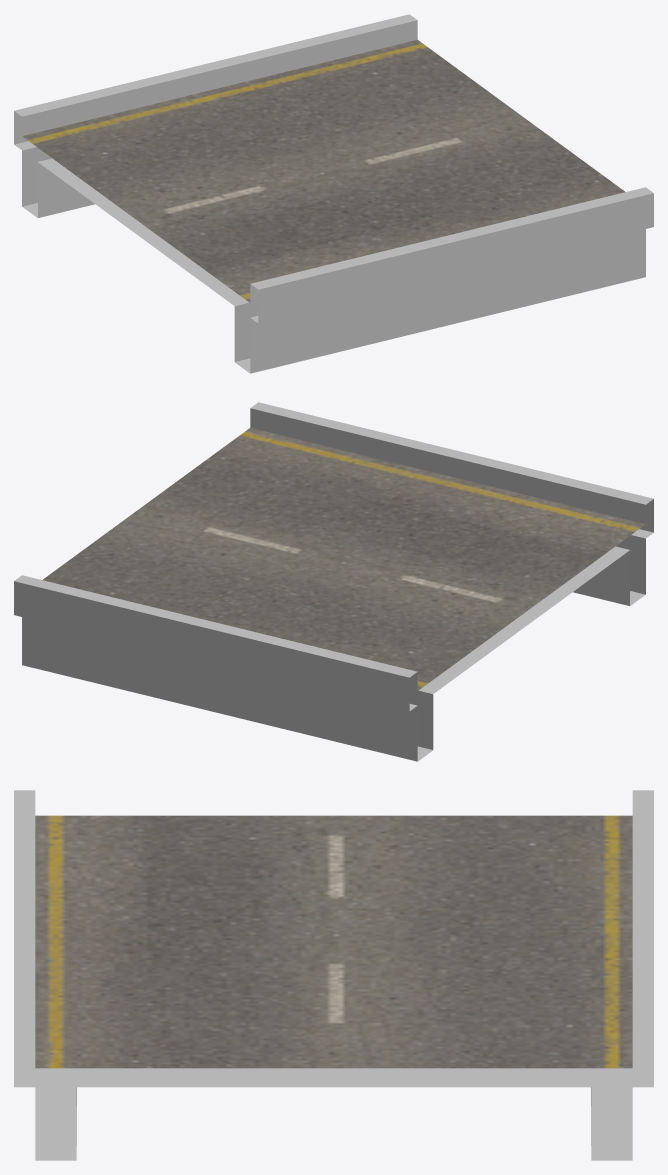
File: Urban_Road1BridgeSegmentNoSides_Model.fbx
3 renders of one model, top to bottom at view 1: azimuth 30°, elevation 25°; view 2: azimuth 150°, elevation 25°; view 3: azimuth 270°, elevation 25°, orthographic. The views are drawn at different scales.
Parts seen in each view (by area): view 1: Urban_Road1BridgeSegmentNoSides_Mesh; view 2: Urban_Road1BridgeSegmentNoSides_Mesh; view 3: Urban_Road1BridgeSegmentNoSides_Mesh.
Boxes of the visible parts, x1,y1,x2,y2 form: Urban_Road1BridgeSegmentNoSides_Mesh: (14, 14, 653, 373); Urban_Road1BridgeSegmentNoSides_Mesh: (14, 402, 653, 761); Urban_Road1BridgeSegmentNoSides_Mesh: (14, 790, 653, 1160).
Bounding box in the file's own units: 16 × 3.48 × 17.13.
